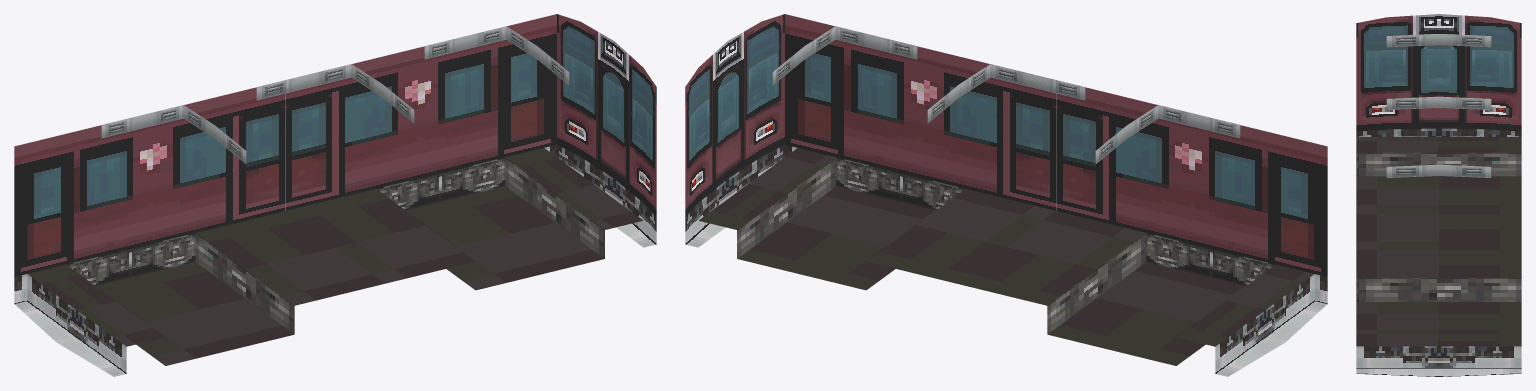
The model's file is ps2_save-icons_tetsu1denshadebattle.glb.
3 renders of one model, left to right at view 1: azimuth 30°, elevation 25°; view 2: azimuth 150°, elevation 25°; view 3: azimuth 270°, elevation 25°, orthographic. The views are drawn at different scales.
Parts seen in each view (by area): view 1: icon1.ico; view 2: icon1.ico; view 3: icon1.ico.
Part boxes in pixels (left/top/right/bottom): icon1.ico: left=14, top=14, right=656, bottom=376; icon1.ico: left=685, top=14, right=1327, bottom=376; icon1.ico: left=1356, top=14, right=1521, bottom=376.
Size of the model in its own units: 4.02 by 1.24 by 1.24.
1 material, 1 textured.
